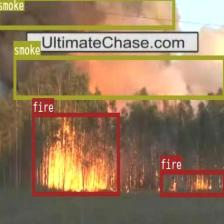fire: (31, 112, 119, 195), (159, 169, 224, 196)
smoke: (13, 55, 224, 98), (0, 0, 174, 29)
